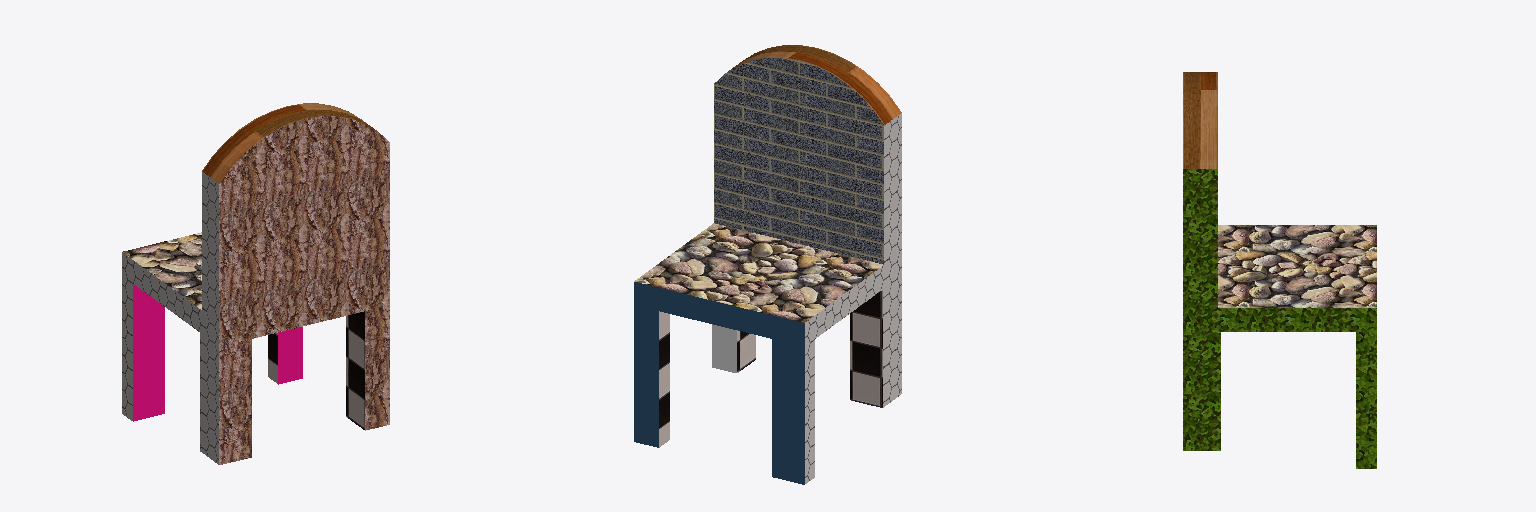
The picture shows the model from 3 angles: view 1: azimuth 30°, elevation 25°; view 2: azimuth 150°, elevation 25°; view 3: azimuth 270°, elevation 25°; orthographic projection.
Parts seen in each view (by area): view 1: SketchUp_ID36, SketchUp_ID119, SketchUp_ID49, SketchUp_ID2, SketchUp_ID145, SketchUp_ID84; view 2: SketchUp_ID132, SketchUp_ID2, SketchUp_ID28, SketchUp_ID119, SketchUp_ID111, SketchUp_ID145, SketchUp_ID57, SketchUp_ID92, SketchUp_ID84; view 3: SketchUp_ID15, SketchUp_ID2, SketchUp_ID145.
Boxes of the visible parts, <box> form: SketchUp_ID36: <box>219,116,389,464</box>; SketchUp_ID119: <box>122,172,218,464</box>; SketchUp_ID49: <box>133,284,302,421</box>; SketchUp_ID2: <box>123,232,201,309</box>; SketchUp_ID145: <box>202,103,376,183</box>; SketchUp_ID84: <box>346,311,364,429</box>; SketchUp_ID132: <box>714,58,883,264</box>; SketchUp_ID2: <box>634,223,882,322</box>; SketchUp_ID28: <box>634,282,804,484</box>; SketchUp_ID119: <box>805,113,901,483</box>; SketchUp_ID111: <box>850,290,882,407</box>; SketchUp_ID145: <box>728,45,901,125</box>; SketchUp_ID57: <box>659,311,669,447</box>; SketchUp_ID92: <box>712,324,736,372</box>; SketchUp_ID84: <box>737,330,755,372</box>; SketchUp_ID15: <box>1183,169,1376,468</box>; SketchUp_ID2: <box>1218,225,1376,307</box>; SketchUp_ID145: <box>1183,72,1217,168</box>.
Bounding box in the file's own units: 0.4181 × 0.8087 × 0.4138.
Materials: 10 (7 with a texture image).